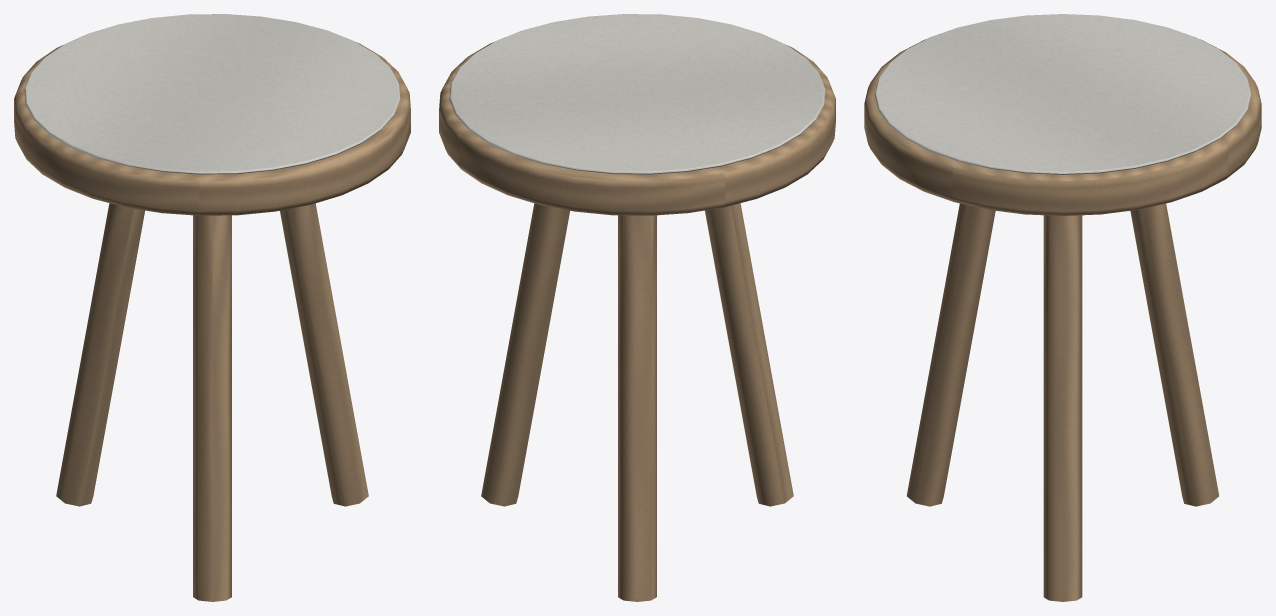
Rendered from side_table.glb.
3 renders of one model, left to right at view 1: azimuth 30°, elevation 25°; view 2: azimuth 150°, elevation 25°; view 3: azimuth 270°, elevation 25°, orthographic.
Parts seen in each view (by area): view 1: 家具_side_table; view 2: 家具_side_table; view 3: 家具_side_table.
Boxes of the visible parts, bbox=[...] form: 家具_side_table: bbox=[14, 14, 410, 601]; 家具_side_table: bbox=[439, 14, 835, 601]; 家具_side_table: bbox=[864, 14, 1261, 601].
Size of the model in its own units: 0.45 by 0.55 by 0.45.
2 materials, 2 textured.
